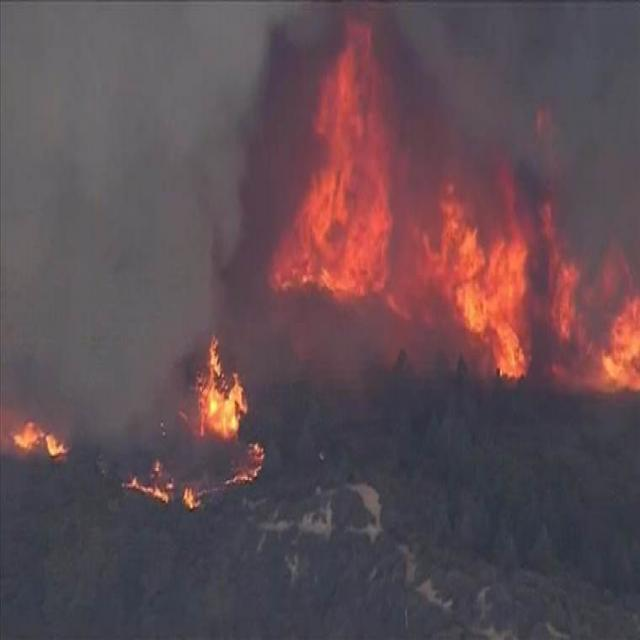Fire: (267, 10, 640, 390), (192, 338, 249, 450), (0, 410, 68, 465)
